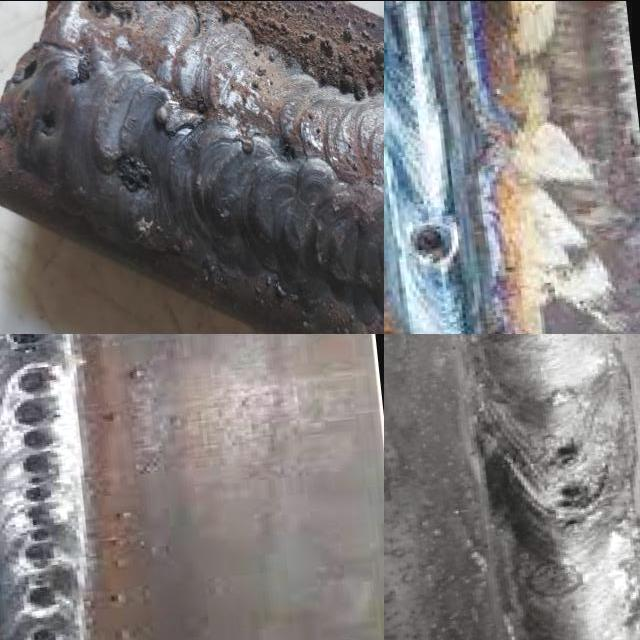defect: (10, 357, 64, 575), (544, 478, 613, 535), (399, 217, 464, 269), (536, 434, 596, 471), (114, 144, 157, 194), (18, 580, 74, 617), (35, 97, 65, 143), (70, 47, 97, 88), (22, 623, 67, 640), (282, 138, 297, 161)
